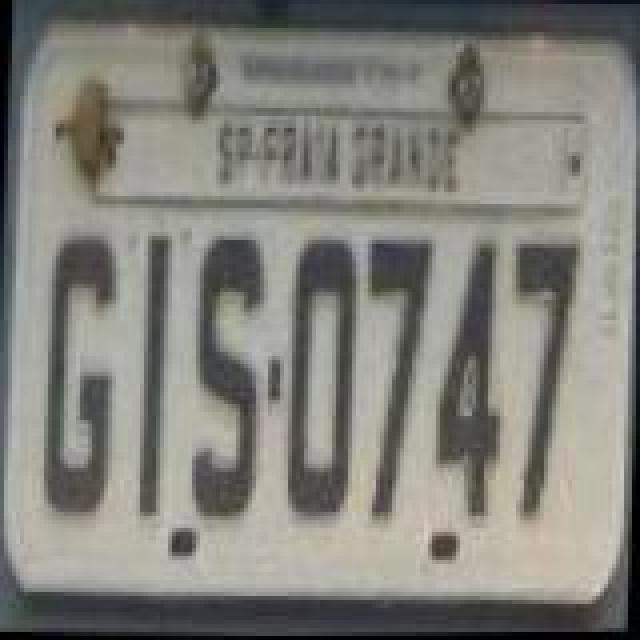1: (136, 238, 168, 514)
4: (432, 244, 504, 524)
7: (360, 234, 432, 522), (506, 238, 574, 518)
G: (38, 228, 122, 524)
O: (288, 232, 360, 520)
S: (188, 230, 268, 526)
